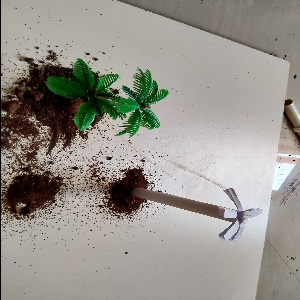plant: (32, 64, 161, 141)
weed: (126, 170, 263, 245)
weeddw: (125, 174, 255, 250)
